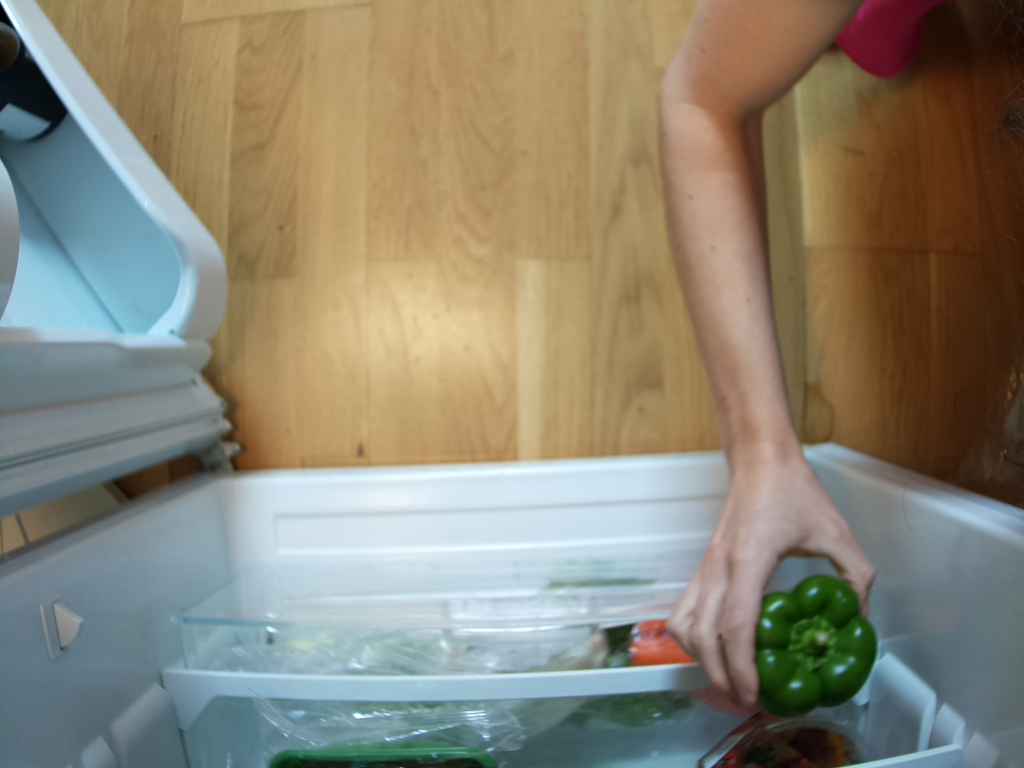pepper: (755, 573, 880, 719)
